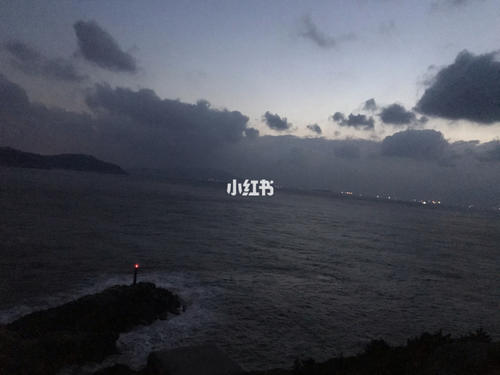mountain: (26, 45, 276, 180)
sea_river: (93, 178, 482, 348)
